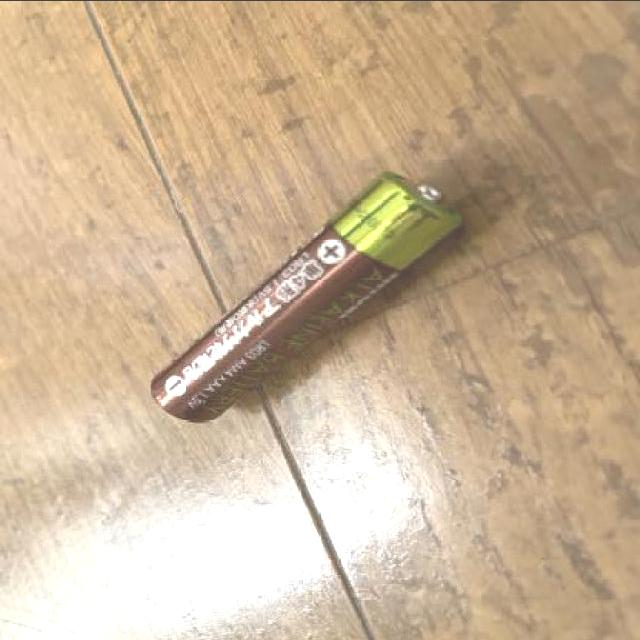AA: (146, 164, 471, 424)
